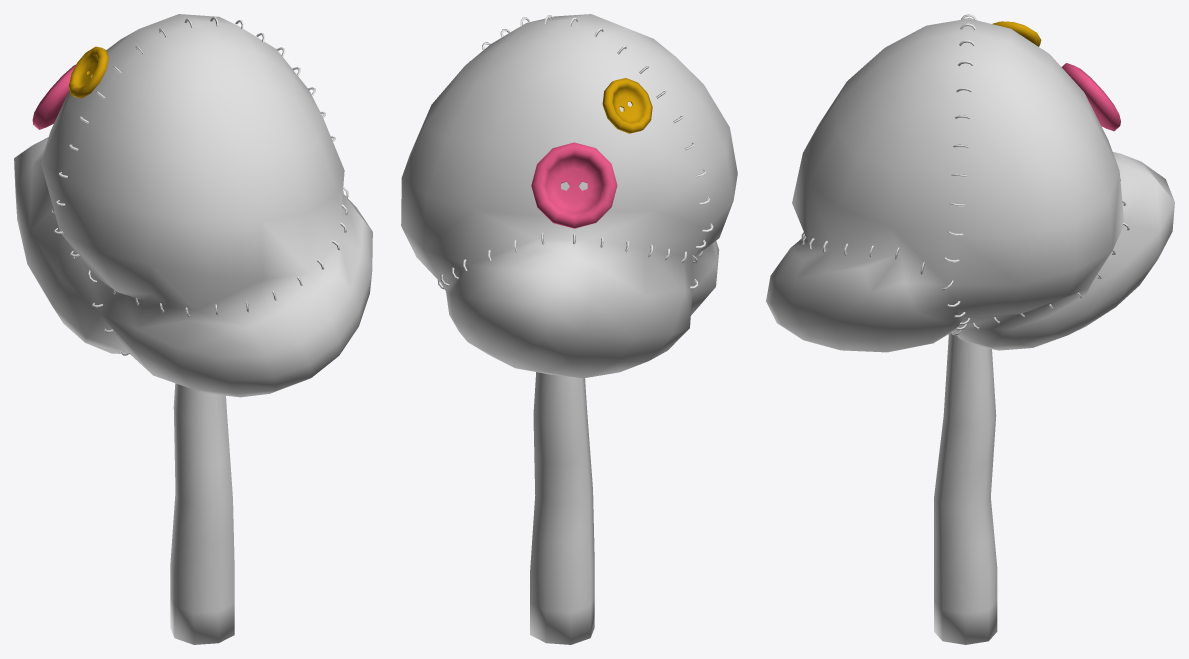
The model's file is SM_Tree.fbx.
3 renders of one model, left to right at view 1: azimuth 30°, elevation 25°; view 2: azimuth 150°, elevation 25°; view 3: azimuth 270°, elevation 25°, orthographic. The views are drawn at different scales.
Parts seen in each view (by area): view 1: Cube.003, Cube.008, Cube.009; view 2: Cube.003, Cube.008, Cube.009; view 3: Cube.003, Cube.008, Cube.009.
Boxes of the visible parts, x1,y1,x2,y2 form: Cube.003: (14, 14, 372, 397); Cube.008: (170, 383, 234, 644); Cube.009: (32, 46, 108, 129); Cube.003: (401, 14, 737, 378); Cube.008: (530, 372, 594, 644); Cube.009: (531, 78, 652, 228); Cube.003: (766, 14, 1174, 352); Cube.008: (934, 332, 997, 644); Cube.009: (992, 21, 1120, 131).
Size of the model in its own units: 81.71 by 174 by 107.
